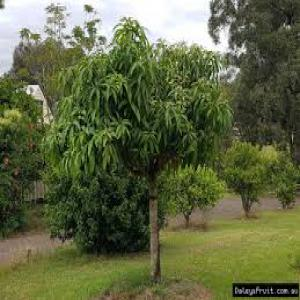Tree: (42, 15, 232, 276)
